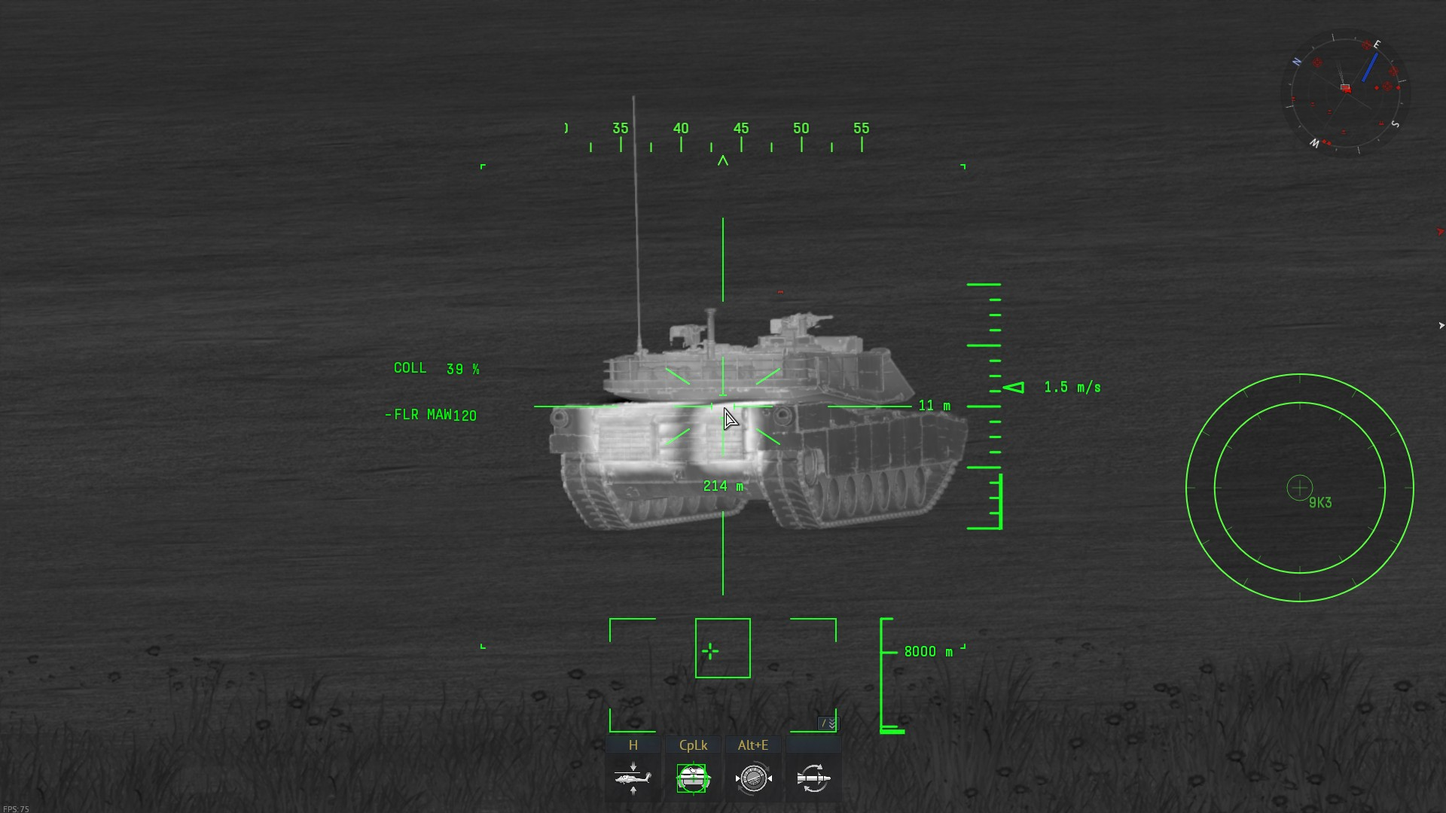abrams: (551, 310, 970, 541)
